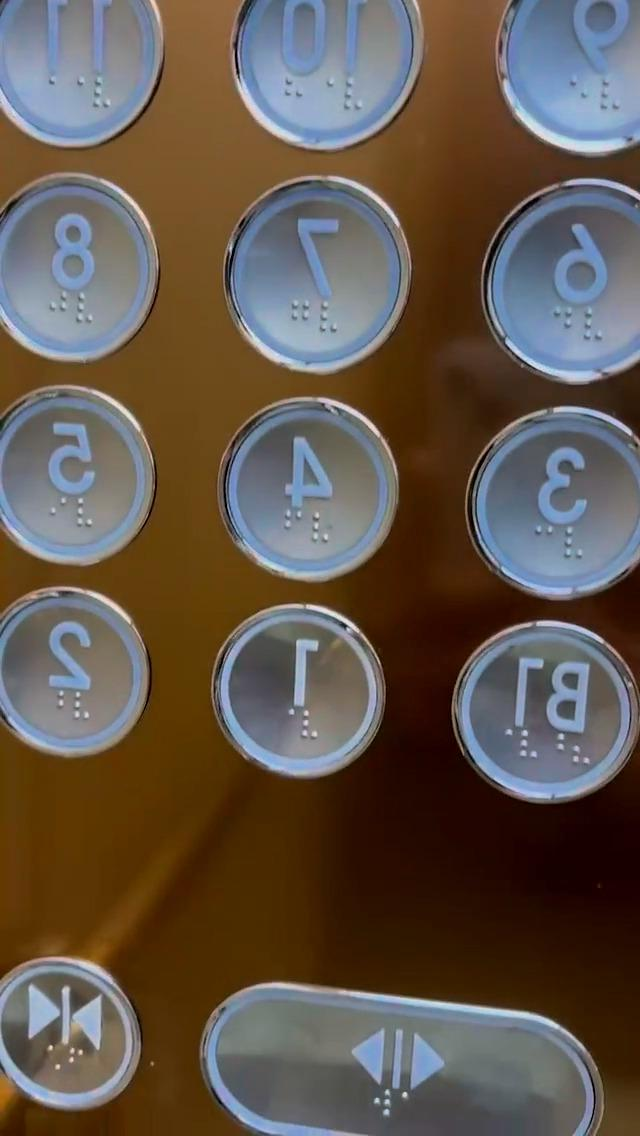button: (199, 1021, 583, 1126), (223, 177, 417, 377), (471, 184, 640, 389), (464, 417, 640, 600), (456, 629, 634, 807), (0, 173, 157, 366), (219, 419, 399, 581), (242, 0, 420, 151), (0, 394, 160, 557), (216, 613, 371, 780), (0, 0, 175, 145), (0, 600, 140, 751), (3, 974, 149, 1117), (500, 0, 640, 147)
